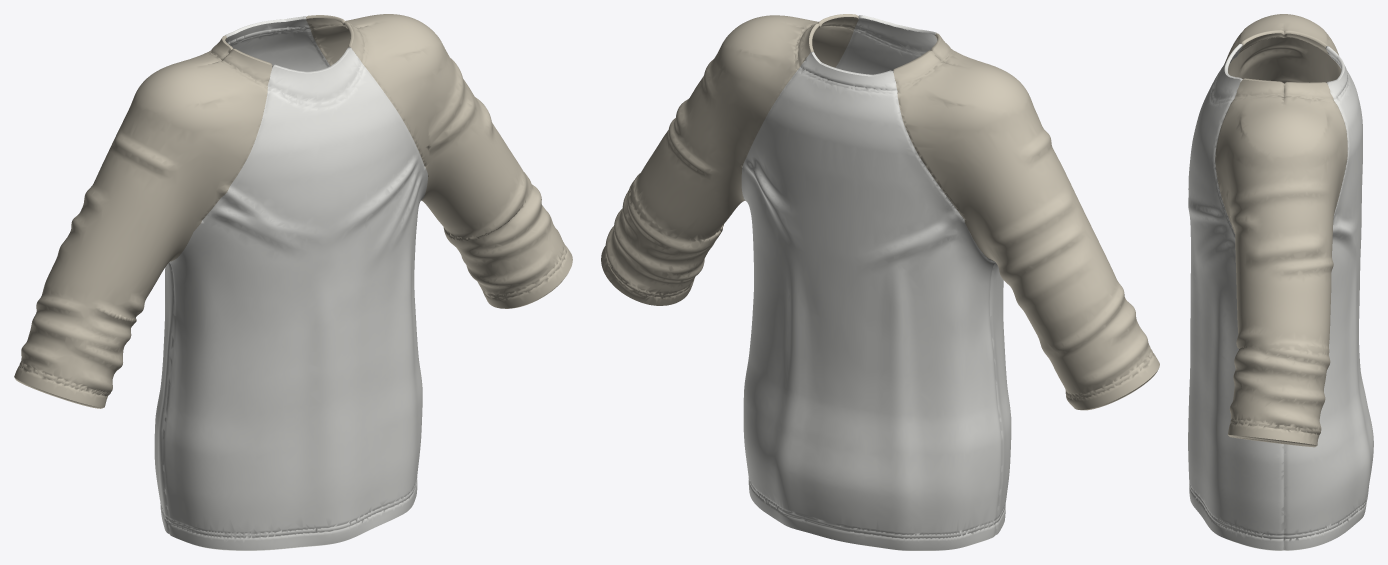
Rendered from 08_camiseta_raglan.glb.
The picture shows the model from 3 angles, left to right: view 1: azimuth 30°, elevation 25°; view 2: azimuth 150°, elevation 25°; view 3: azimuth 270°, elevation 25°; orthographic projection. The views are drawn at different scales.
Parts seen in each view (by area): view 1: Camiseta raglán; view 2: Camiseta raglán; view 3: Camiseta raglán.
Part boxes in pixels (x1=…): Camiseta raglán: x1=14, y1=14, x2=572, y2=550; Camiseta raglán: x1=601, y1=14, x2=1159, y2=550; Camiseta raglán: x1=1188, y1=14, x2=1373, y2=550.
Bounding box in the file's own units: 0.8762 × 0.7277 × 0.2769.
